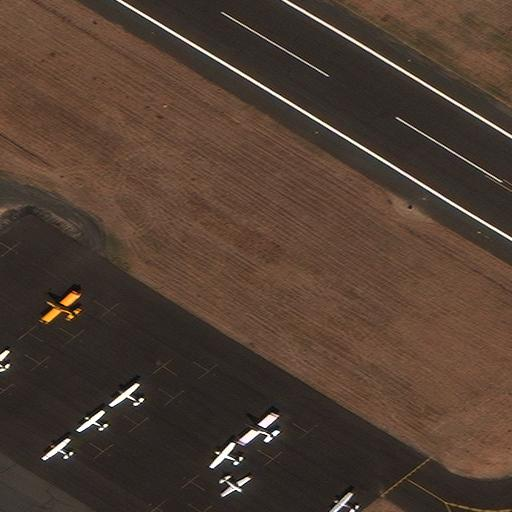Medium Civil Transport: (235, 410, 275, 442), (38, 289, 77, 321)
Small Civil Transport: (208, 441, 240, 466), (107, 382, 141, 405), (40, 436, 70, 458), (75, 409, 105, 430), (222, 477, 251, 498), (327, 491, 356, 512), (0, 348, 6, 370)
